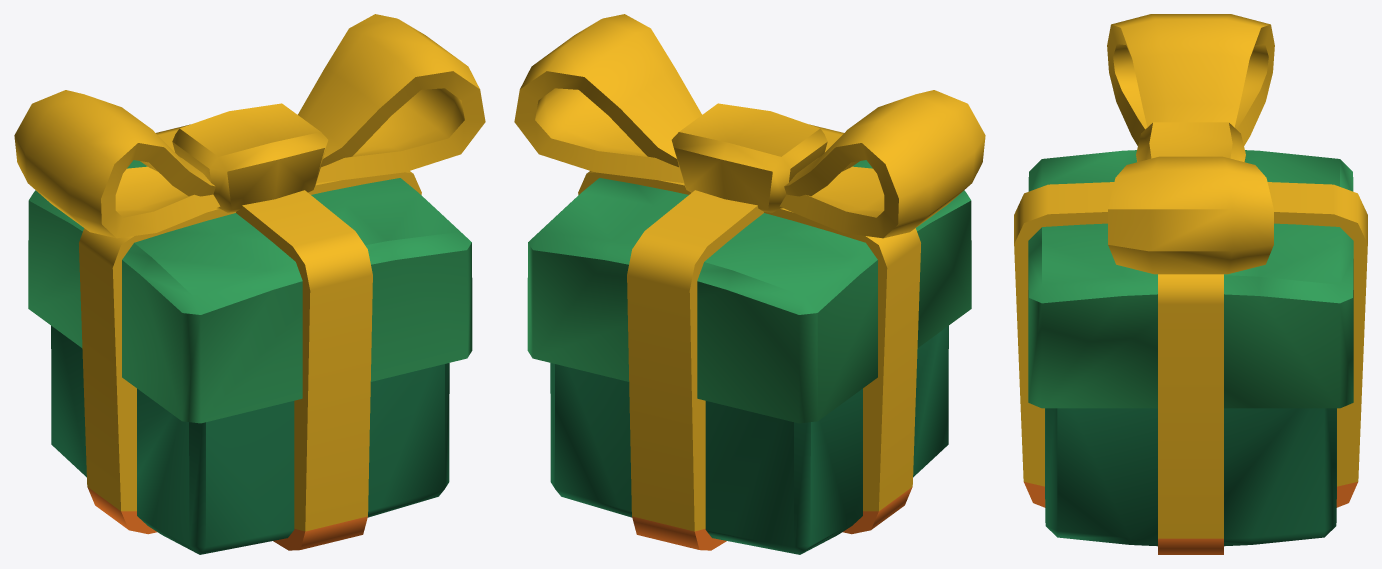
The model's file is presente_natal_verde_fita_amarela_pacote.glb.
3 renders of one model, left to right at view 1: azimuth 30°, elevation 25°; view 2: azimuth 150°, elevation 25°; view 3: azimuth 270°, elevation 25°, orthographic. The views are drawn at different scales.
Visible parts, largest first — view 1: presente_natal_verde_fita_amarela_pacote; view 2: presente_natal_verde_fita_amarela_pacote; view 3: presente_natal_verde_fita_amarela_pacote.
Boxes of the visible parts, box(x1,y1,x2,y2) form: presente_natal_verde_fita_amarela_pacote: box(14, 14, 485, 554); presente_natal_verde_fita_amarela_pacote: box(514, 14, 985, 554); presente_natal_verde_fita_amarela_pacote: box(1014, 14, 1367, 554).
Size of the model in its own units: 0.3968 by 0.4 by 0.3083.
1 material, 1 textured.
